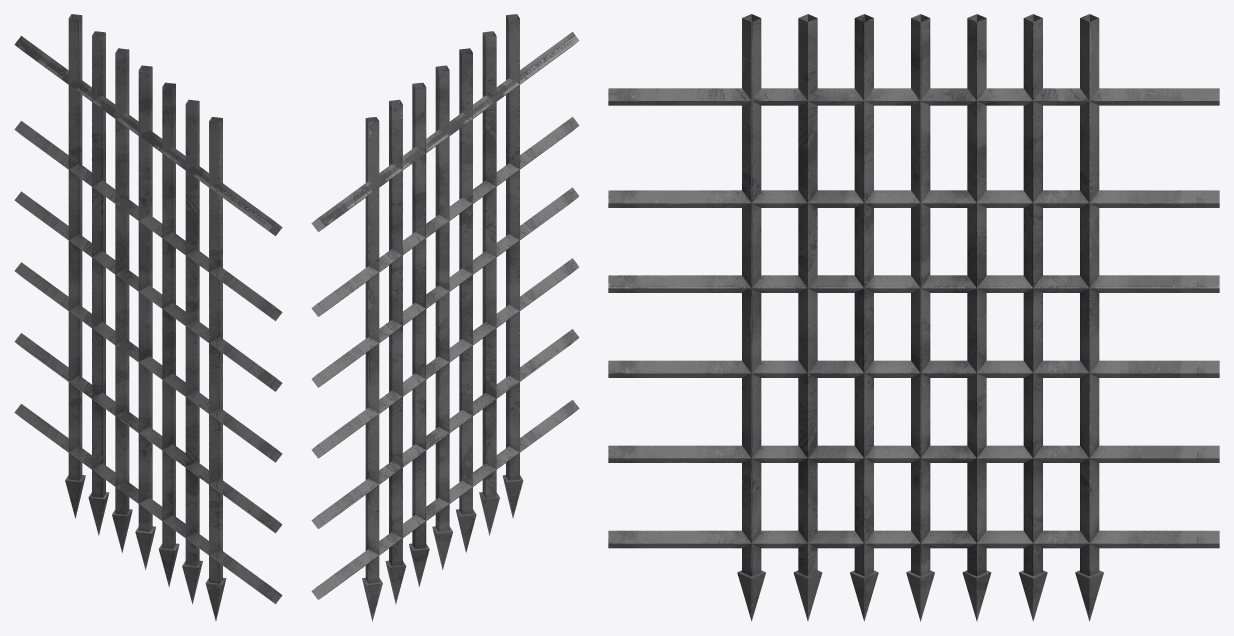
Rendered from Galler.fbx.
3 views of the same model, side by side, from view 1: azimuth 30°, elevation 25°; view 2: azimuth 150°, elevation 25°; view 3: azimuth 270°, elevation 25° (orthographic). The views are drawn at different scales.
Visible parts, largest first — view 1: Cube.001; view 2: Cube.001; view 3: Cube.001.
Boxes of the visible parts, x1=… form: Cube.001: x1=14, y1=14, x2=282, y2=620; Cube.001: x1=311, y1=14, x2=579, y2=621; Cube.001: x1=608, y1=14, x2=1219, y2=621.
Size of the model in its own units: 15.47 by 355 by 326.
